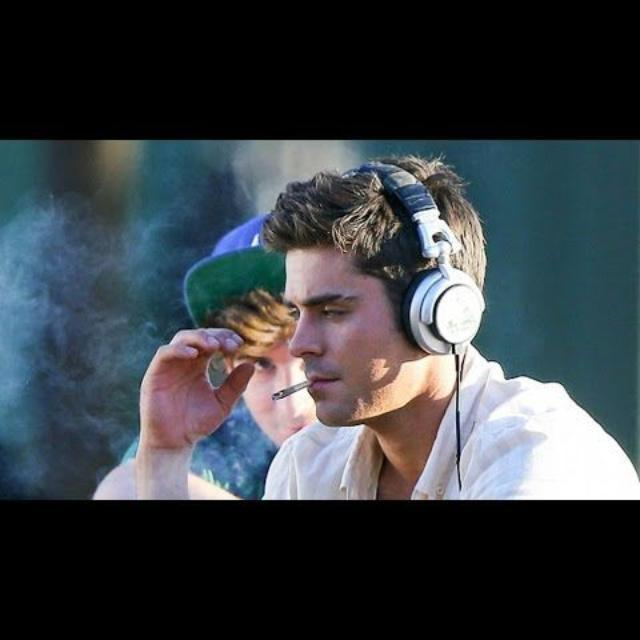rokok: (268, 375, 316, 403)
